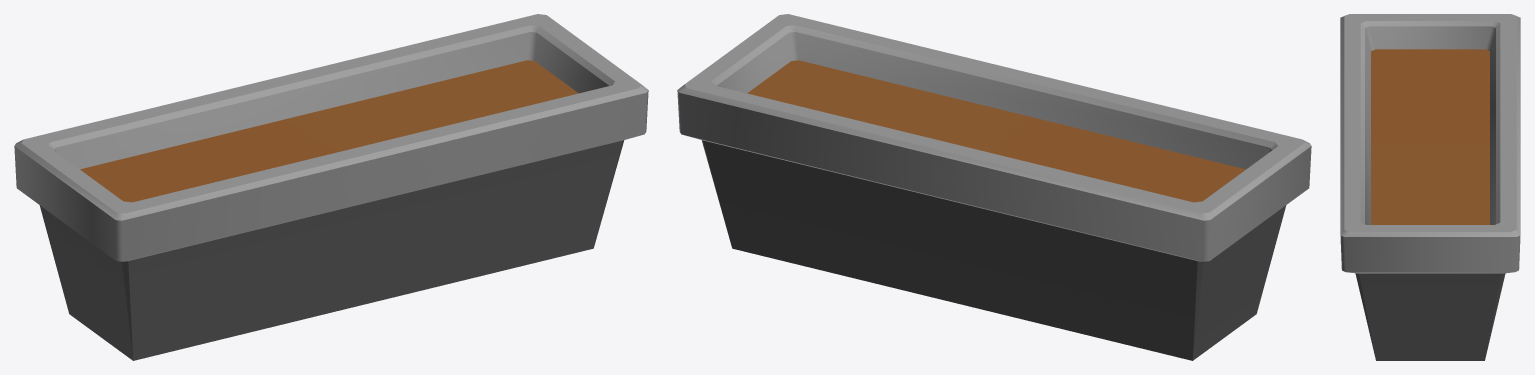
File: PlantPot_3_B.fbx
3 views of the same model, side by side, from view 1: azimuth 30°, elevation 25°; view 2: azimuth 150°, elevation 25°; view 3: azimuth 270°, elevation 25° (orthographic). The views are drawn at different scales.
Parts seen in each view (by area): view 1: PlantPot_3_B; view 2: PlantPot_3_B; view 3: PlantPot_3_B.
Part boxes in pixels (bbox=[...]): PlantPot_3_B: bbox=[14, 14, 648, 360]; PlantPot_3_B: bbox=[677, 14, 1311, 360]; PlantPot_3_B: bbox=[1340, 14, 1520, 360].
Size of the model in its own units: 79.88 by 24 by 27.48.
